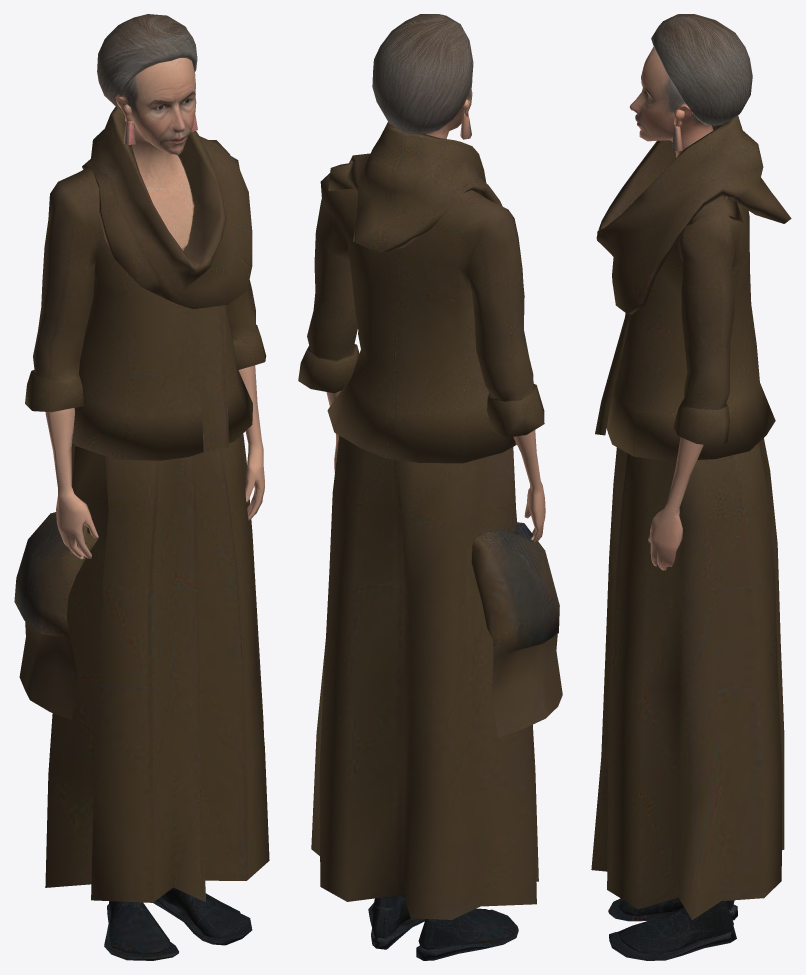
Rendered from woman.glb.
3 renders of one model, left to right at view 1: azimuth 30°, elevation 25°; view 2: azimuth 150°, elevation 25°; view 3: azimuth 270°, elevation 25°, orthographic.
Size of the model in its own units: 0.4528 by 1.65 by 0.3306.
Materials: 1 (1 with a texture image).
